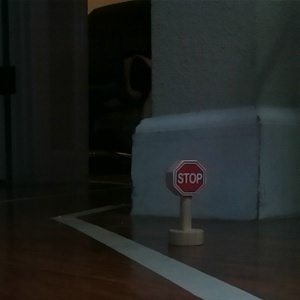stop sign: (164, 158, 208, 246)
